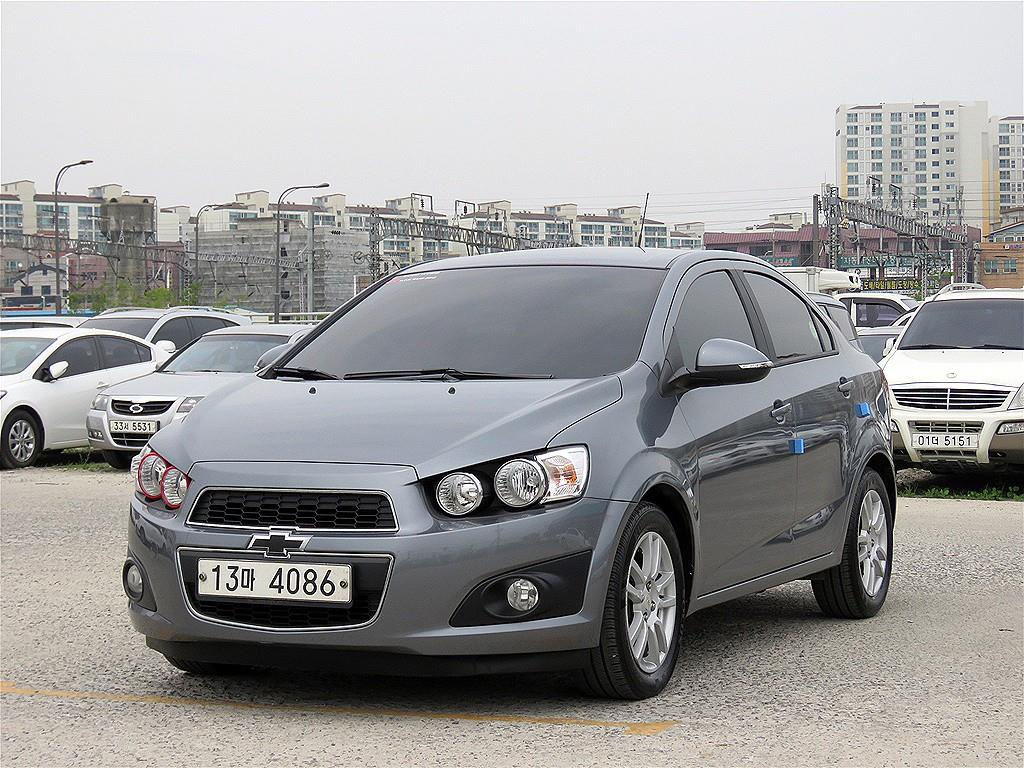plate: (198, 558, 350, 602)
